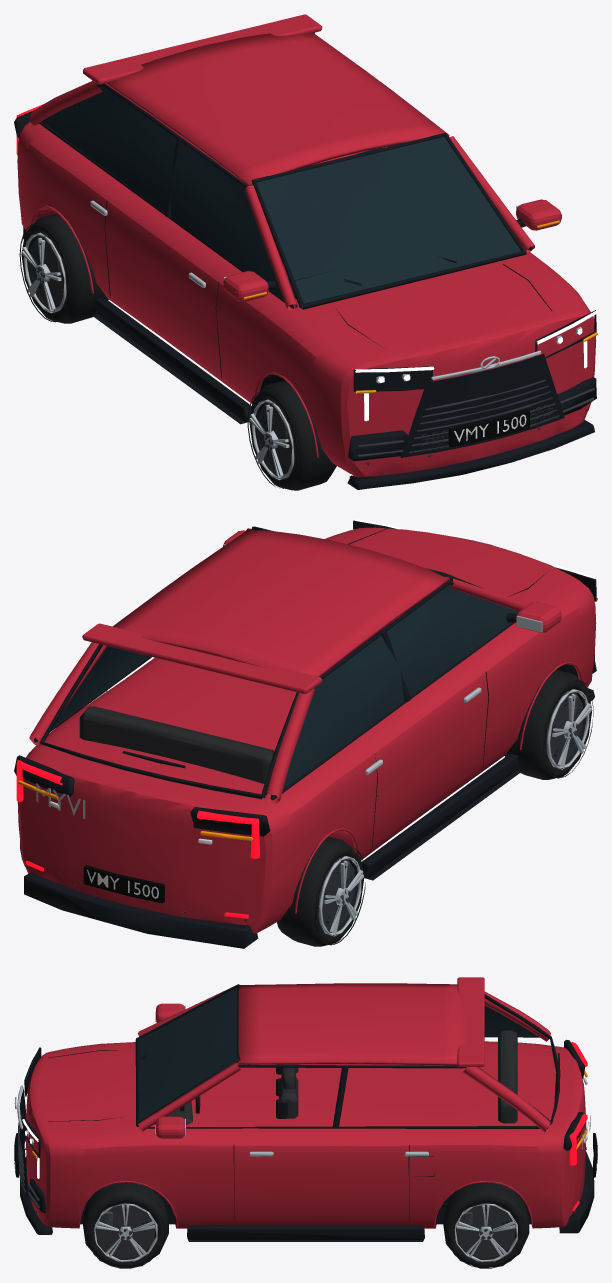
The model's file is myvi-mid.glb.
The picture shows the model from 3 angles, top to bottom: view 1: azimuth 30°, elevation 25°; view 2: azimuth 150°, elevation 25°; view 3: azimuth 270°, elevation 25°; orthographic projection. The views are drawn at different scales.
Visible parts, largest first — view 1: chassis.001__Automotive clearcoat, chassis.001__Solar glass, chassis.001__Satin black trim, wheel_FL.001__Tyre rubber, wheel_RL.001__Tyre rubber, chassis.001__Graphite alloy, chassis.001__Black registration plate, wheel_RL.001__Machined aluminium, wheel_FL.001__Machined aluminium, wheel_FL.001__Graphite alloy, wheel_RL.001__Graphite alloy, chassis.001__Machined aluminium (+1 smaller); view 2: chassis.001__Automotive clearcoat, chassis.001__Satin black trim, chassis.001__Solar glass, chassis.001__Charcoal upholstery, wheel_RL.001__Tyre rubber, wheel_FL.001__Tyre rubber, chassis.001__Red LED optics, wheel_RL.001__Machined aluminium, wheel_FL.001__Machined aluminium, chassis.001__Black registration plate, wheel_RL.001__Graphite alloy, wheel_FL.001__Graphite alloy (+1 smaller); view 3: chassis.001__Automotive clearcoat, chassis.001__Satin black trim, chassis.001__Solar glass, wheel_RR.001__Tyre rubber, wheel_FR.001__Tyre rubber, chassis.001__Charcoal upholstery, wheel_RR.001__Graphite alloy, wheel_FR.001__Graphite alloy, wheel_FR.001__Machined aluminium, wheel_RR.001__Machined aluminium, chassis.001__Machined aluminium, chassis.001__Red LED optics (+1 smaller).
Boxes of the visible parts, bbox=[...] form: chassis.001__Automotive clearcoat: bbox=[17, 14, 596, 477]; chassis.001__Solar glass: bbox=[42, 86, 521, 307]; chassis.001__Satin black trim: bbox=[14, 84, 596, 489]; wheel_FL.001__Tyre rubber: bbox=[247, 381, 336, 490]; wheel_RL.001__Tyre rubber: bbox=[19, 214, 108, 323]; chassis.001__Graphite alloy: bbox=[357, 379, 594, 465]; chassis.001__Black registration plate: bbox=[448, 409, 529, 446]; wheel_RL.001__Machined aluminium: bbox=[21, 232, 66, 313]; wheel_FL.001__Machined aluminium: bbox=[249, 399, 294, 480]; wheel_FL.001__Graphite alloy: bbox=[258, 401, 295, 474]; wheel_RL.001__Graphite alloy: bbox=[31, 234, 67, 307]; chassis.001__Machined aluminium: bbox=[90, 200, 582, 383]; chassis.001__Automotive clearcoat: bbox=[17, 527, 596, 933]; chassis.001__Satin black trim: bbox=[14, 520, 596, 948]; chassis.001__Solar glass: bbox=[54, 584, 518, 798]; chassis.001__Charcoal upholstery: bbox=[79, 610, 408, 783]; wheel_RL.001__Tyre rubber: bbox=[277, 836, 365, 946]; wheel_FL.001__Tyre rubber: bbox=[505, 670, 593, 779]; chassis.001__Red LED optics: bbox=[16, 760, 259, 918]; wheel_RL.001__Machined aluminium: bbox=[319, 855, 364, 936]; wheel_FL.001__Machined aluminium: bbox=[547, 689, 591, 769]; chassis.001__Black registration plate: bbox=[83, 865, 164, 903]; wheel_RL.001__Graphite alloy: bbox=[317, 857, 354, 931]; wheel_FL.001__Graphite alloy: bbox=[545, 691, 582, 764]; chassis.001__Automotive clearcoat: bbox=[26, 977, 586, 1228]; chassis.001__Satin black trim: bbox=[19, 984, 594, 1241]; chassis.001__Solar glass: bbox=[138, 987, 535, 1121]; wheel_RR.001__Tyre rubber: bbox=[442, 1182, 529, 1268]; wheel_FR.001__Tyre rubber: bbox=[82, 1182, 169, 1268]; chassis.001__Charcoal upholstery: bbox=[154, 1030, 517, 1125]; wheel_RR.001__Graphite alloy: bbox=[456, 1203, 516, 1258]; wheel_FR.001__Graphite alloy: bbox=[96, 1203, 155, 1258]; wheel_FR.001__Machined aluminium: bbox=[94, 1203, 157, 1261]; wheel_RR.001__Machined aluminium: bbox=[454, 1203, 517, 1261]; chassis.001__Machined aluminium: bbox=[14, 1005, 590, 1156]; chassis.001__Red LED optics: bbox=[569, 1042, 587, 1211].
Size of the model in its own units: 2.06 by 1.53 by 4.05.
